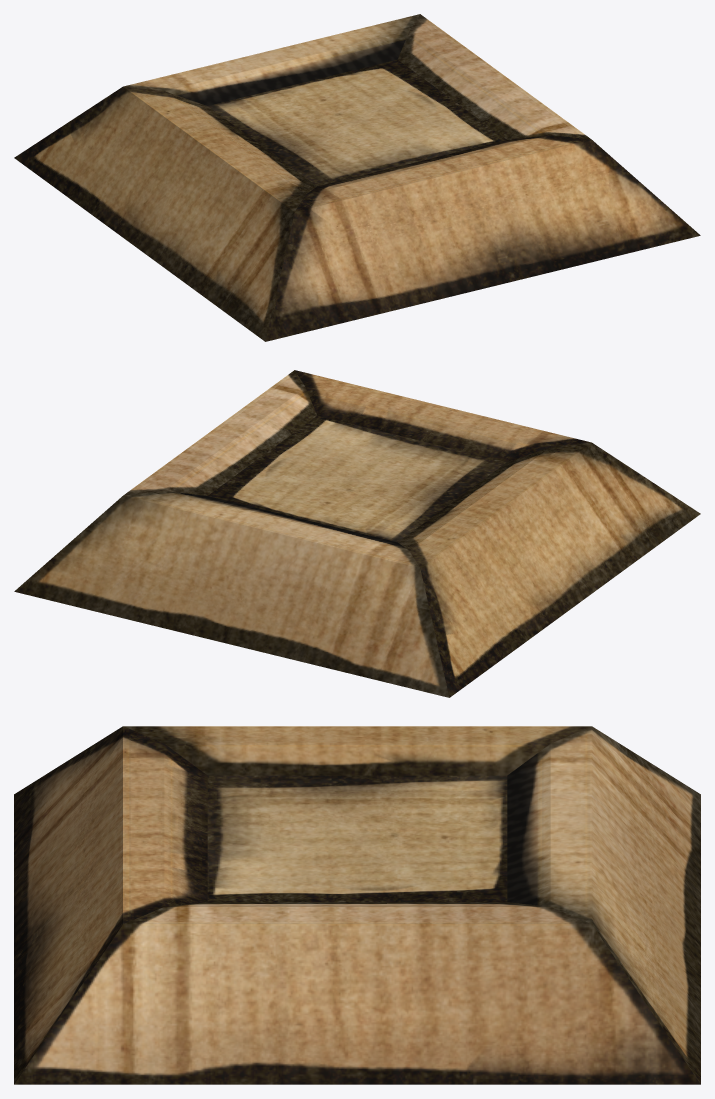
File: Under_Press.fbx
3 views of the same model, one above another, from view 1: azimuth 30°, elevation 25°; view 2: azimuth 150°, elevation 25°; view 3: azimuth 270°, elevation 25° (orthographic). The views are drawn at different scales.
Parts seen in each view (by area): view 1: Cube.009; view 2: Cube.009; view 3: Cube.009.
Part boxes in pixels (bbox=[...]): Cube.009: bbox=[14, 14, 700, 341]; Cube.009: bbox=[14, 370, 700, 697]; Cube.009: bbox=[14, 726, 700, 1084].
Bounding box in the file's own units: 83.7 × 15.37 × 83.7.
